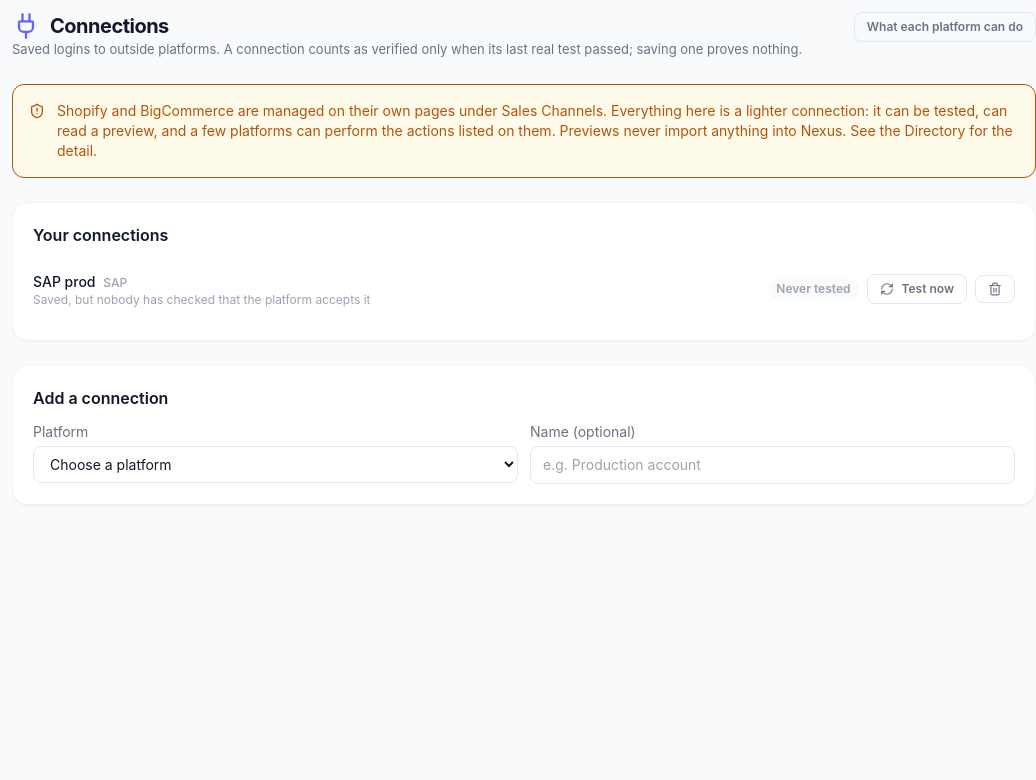
Test case: IntegrationHubPage › says so when there is nothing to do beyond testing
Step 1. Click the text "SAP prod" → (80,281), box [33, 272, 127, 290]
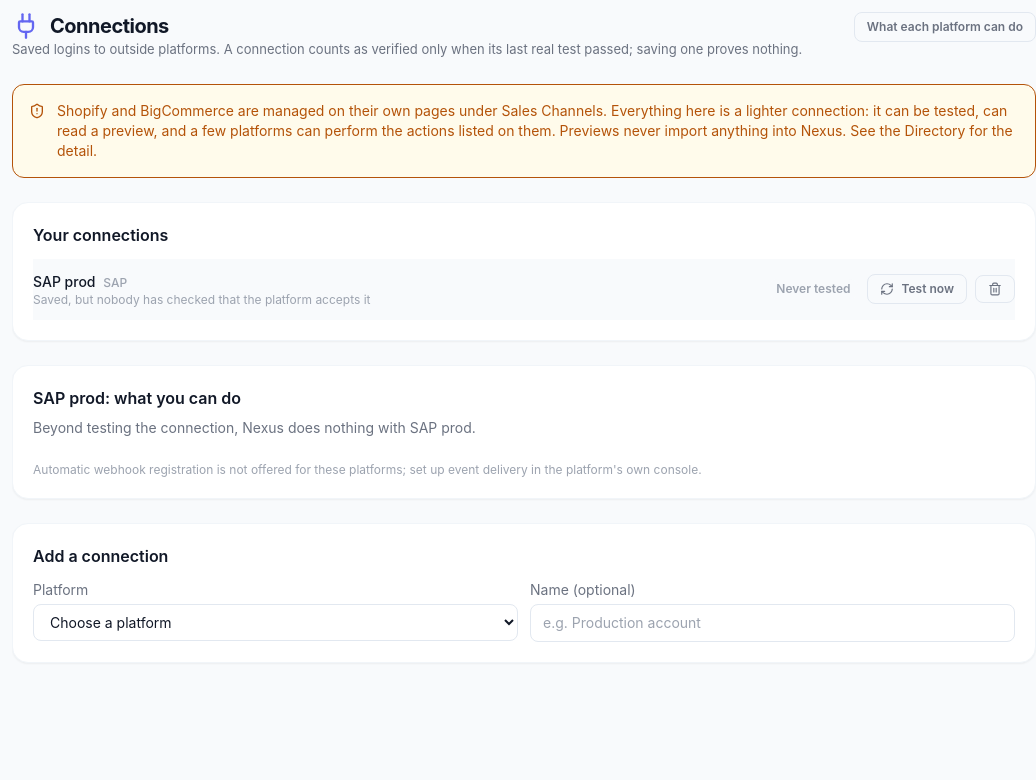
expect the text "Nexus does nothing with SAP prod" is shown: met, box [33, 418, 476, 436]
